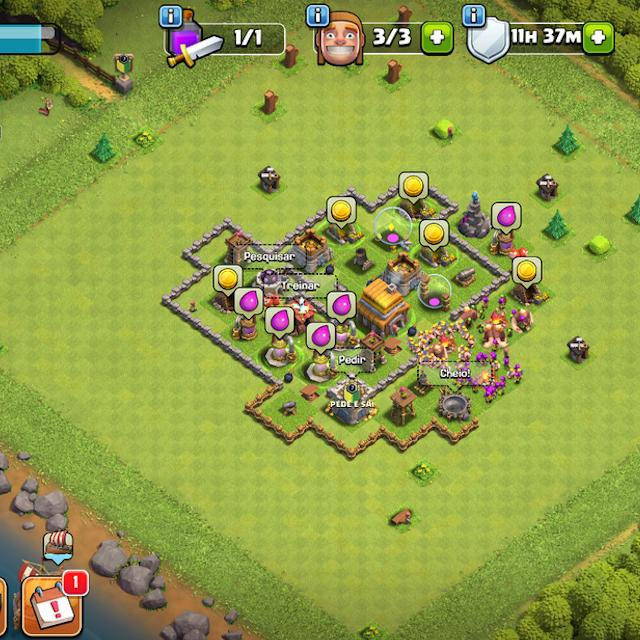Elixir: (490, 201, 522, 236), (264, 306, 295, 340), (306, 322, 336, 357), (327, 290, 357, 324), (236, 288, 264, 320)
coin: (397, 171, 429, 204), (326, 196, 357, 229), (512, 256, 542, 290), (419, 219, 449, 252), (214, 265, 242, 295)
